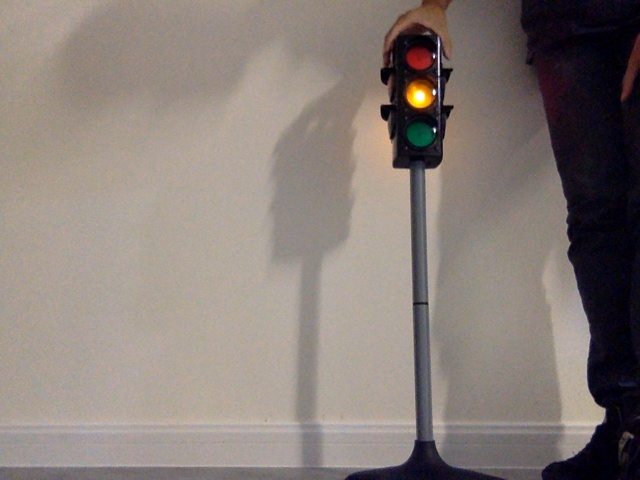yellow: (396, 42, 436, 152)
